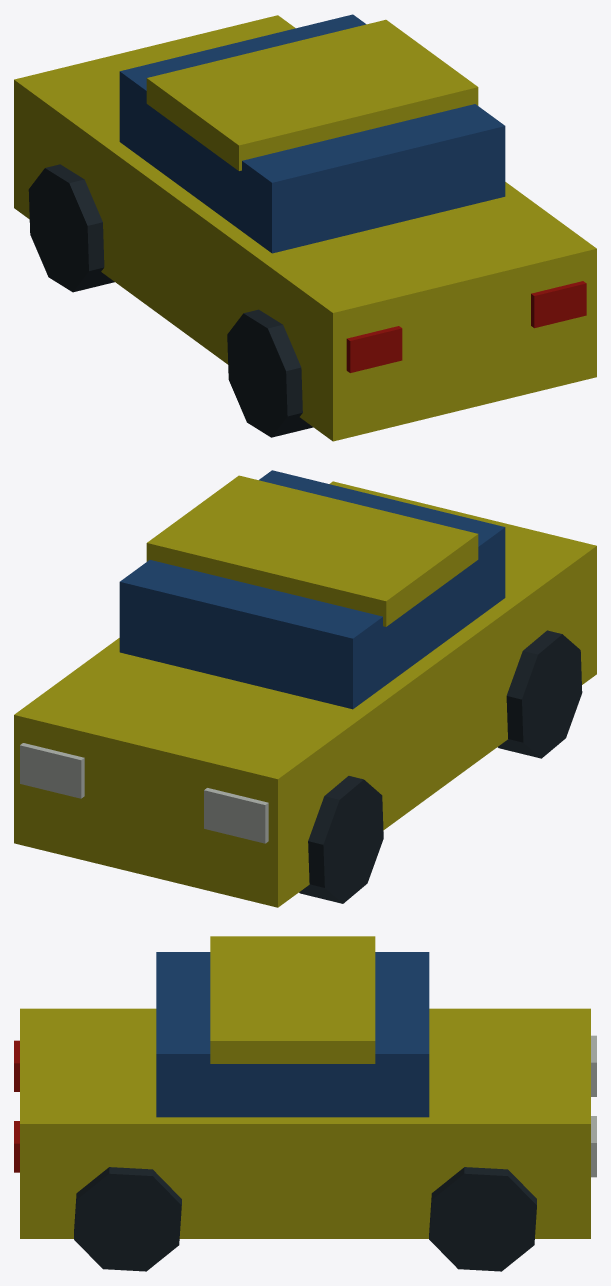
The model's file is car-yellow.glb.
The picture shows the model from 3 angles, top to bottom: view 1: azimuth 30°, elevation 25°; view 2: azimuth 150°, elevation 25°; view 3: azimuth 270°, elevation 25°; orthographic projection. The views are drawn at different scales.
Parts seen in each view (by area): view 1: car-yellow; view 2: car-yellow; view 3: car-yellow.
Boxes of the visible parts, x1,y1,x2,y2 form: car-yellow: [14, 14, 596, 441]; car-yellow: [14, 470, 596, 907]; car-yellow: [14, 936, 596, 1271].
Size of the model in its own units: 4.8 by 3.8 by 9.19.
